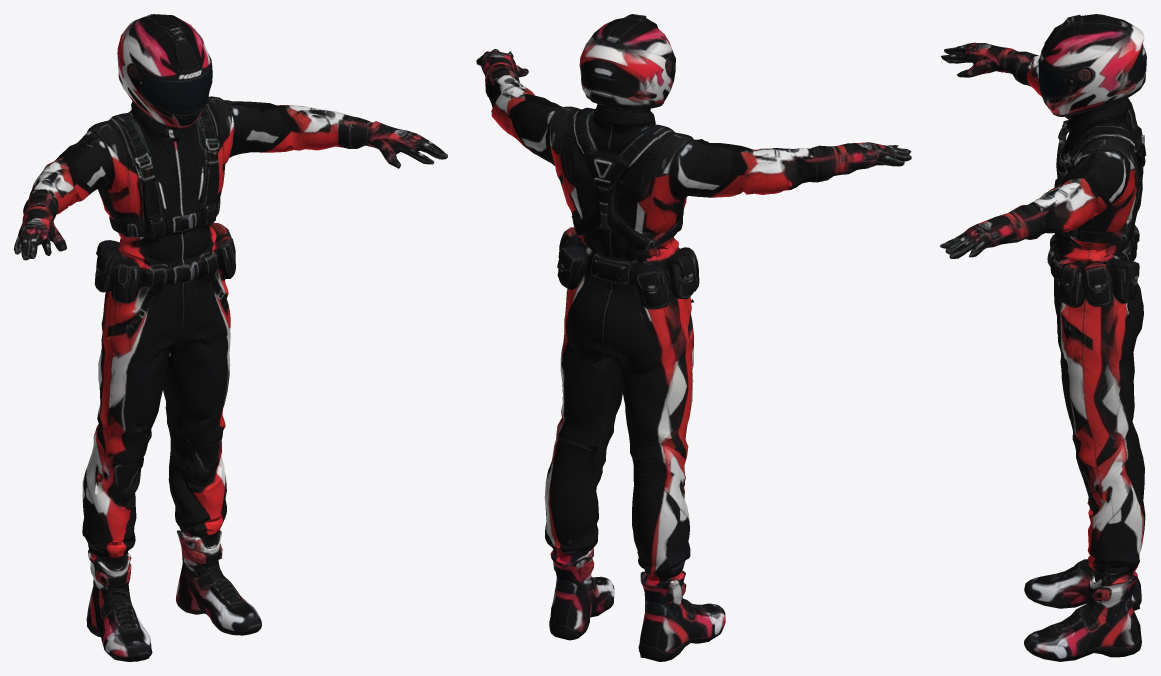
Rendered from pitcrew_mesh_raw.glb.
3 views of the same model, side by side, from view 1: azimuth 30°, elevation 25°; view 2: azimuth 150°, elevation 25°; view 3: azimuth 270°, elevation 25° (orthographic).
Visible parts, largest first — view 1: Mesh_0; view 2: Mesh_0; view 3: Mesh_0.
Part boxes in pixels (x1,y1,x2,y2): Mesh_0: (14,14,447,661); Mesh_0: (476,14,911,661); Mesh_0: (940,14,1146,661).
Size of the model in its own units: 1.38 by 1.9 by 0.5833.
1 material, 1 textured.
